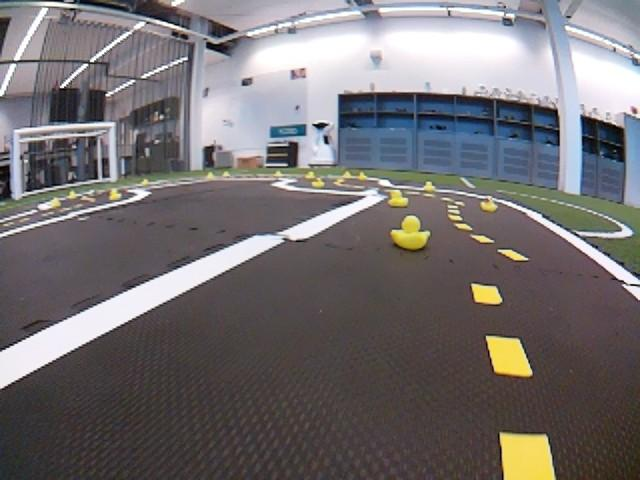Duckies: (389, 216, 430, 249), (388, 191, 409, 207), (480, 198, 497, 212), (49, 197, 61, 208), (311, 178, 324, 187), (424, 181, 435, 191), (110, 189, 121, 198), (357, 172, 367, 180), (305, 172, 315, 179), (141, 178, 150, 185), (205, 172, 214, 179), (342, 171, 351, 178), (68, 192, 76, 199), (274, 171, 283, 176), (223, 171, 230, 176)
